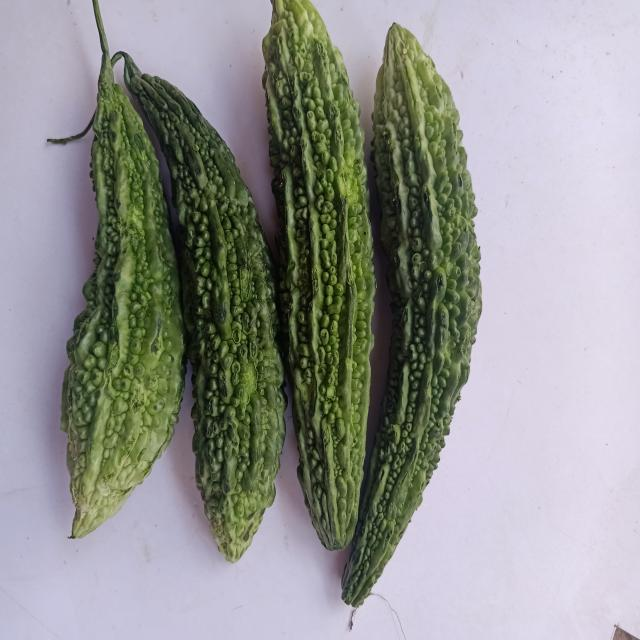Bitter Gourd: (340, 12, 493, 624), (121, 44, 291, 582), (255, 2, 381, 566), (58, 44, 192, 552)
